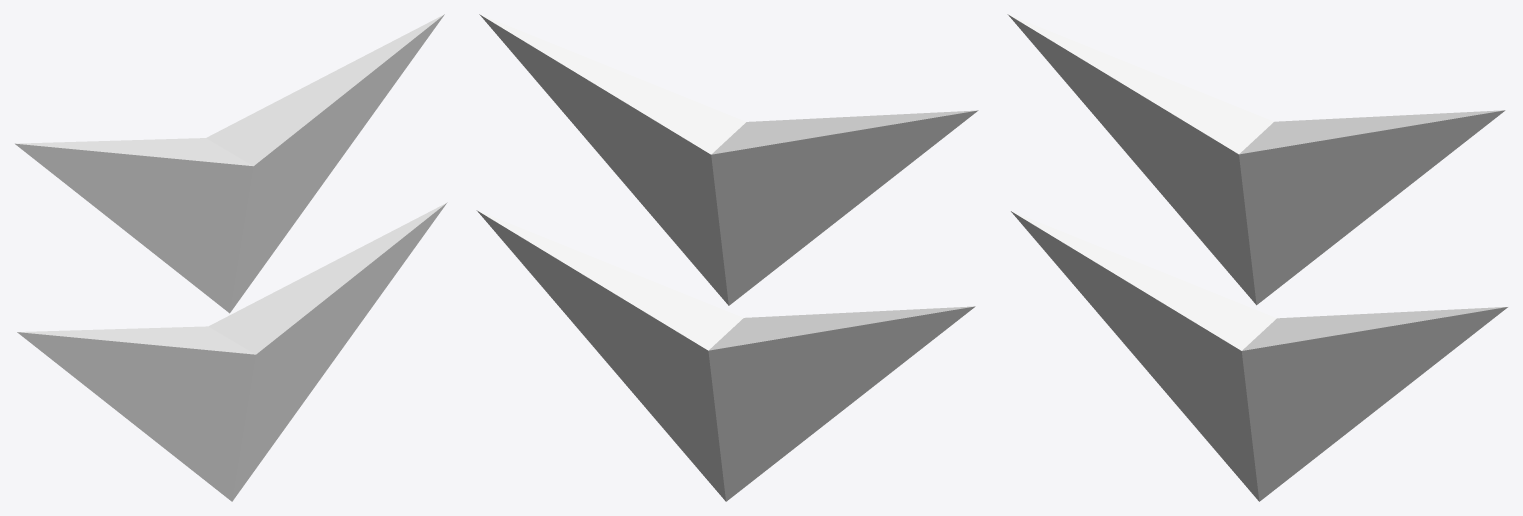
File: arrows.fbx
3 views of the same model, side by side, from view 1: azimuth 30°, elevation 25°; view 2: azimuth 150°, elevation 25°; view 3: azimuth 330°, elevation 25° (orthographic). The views are drawn at different scales.
Parts seen in each view (by area): view 1: node_id28, node_id38; view 2: node_id28, node_id38; view 3: node_id38, node_id28.
Part boxes in pixels (box(x1,y1,x2,y2)): node_id28: box(17, 202, 447, 501); node_id38: box(15, 14, 444, 313); node_id28: box(476, 210, 975, 501); node_id38: box(479, 14, 978, 305); node_id38: box(1007, 14, 1505, 305); node_id28: box(1011, 211, 1507, 501).
Size of the model in its own units: 0.5708 by 0.5043 by 0.0885.
1 material, 1 textured.
